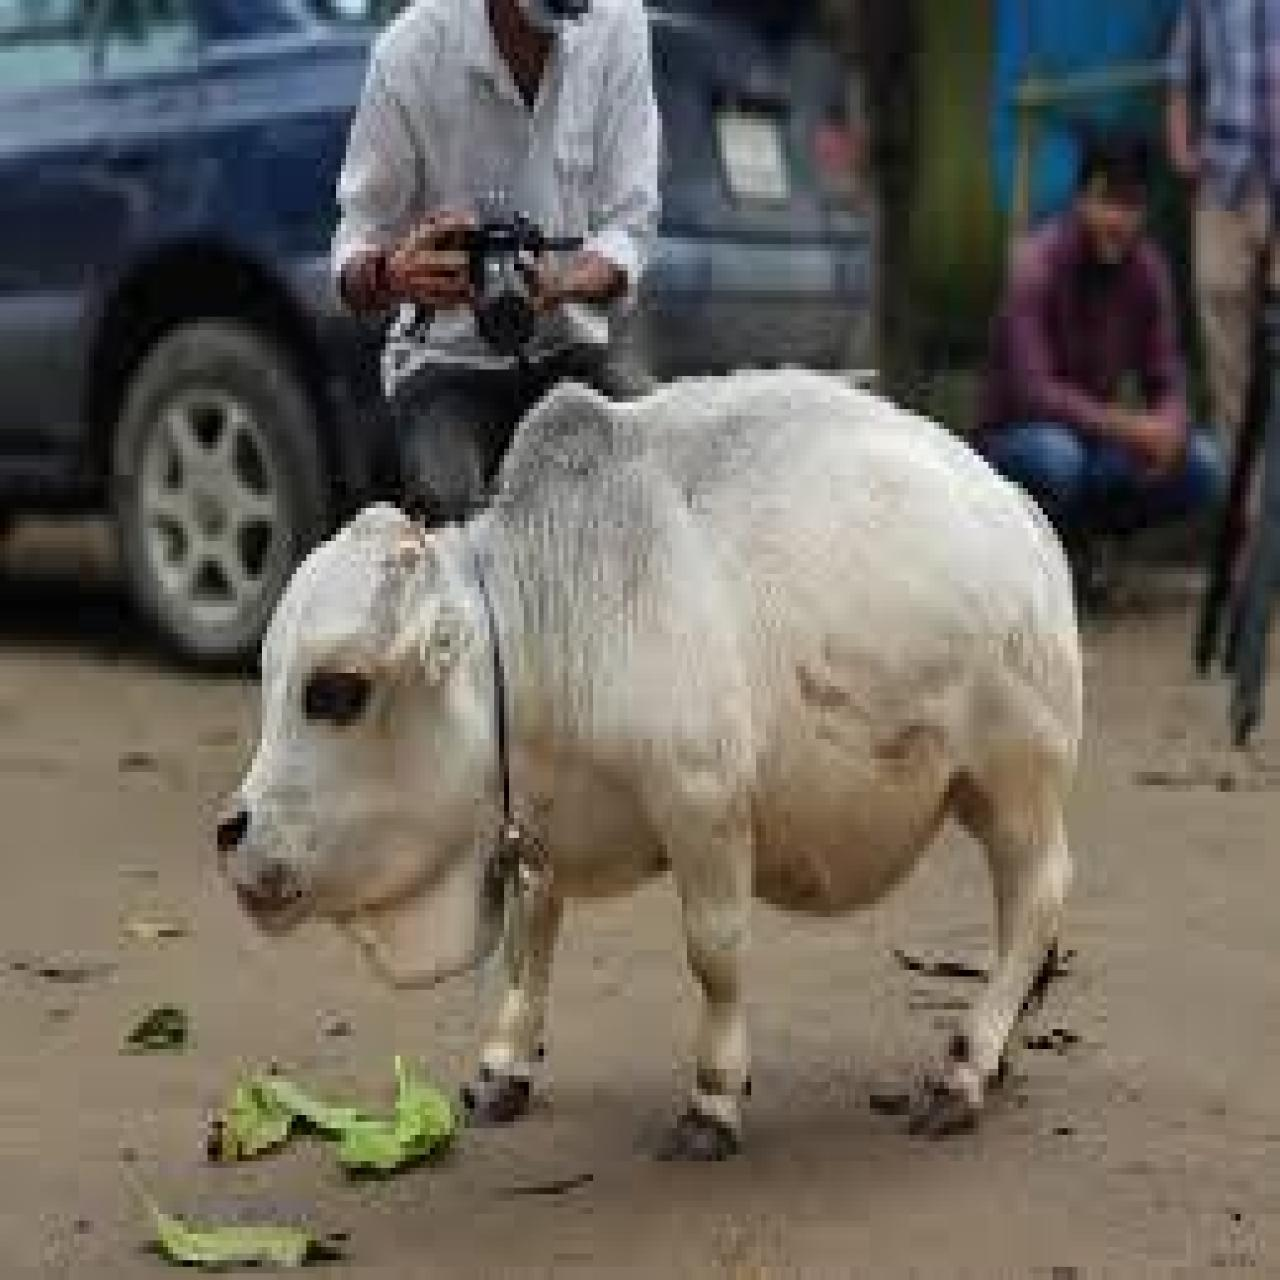cow: (215, 363, 1085, 1167)
